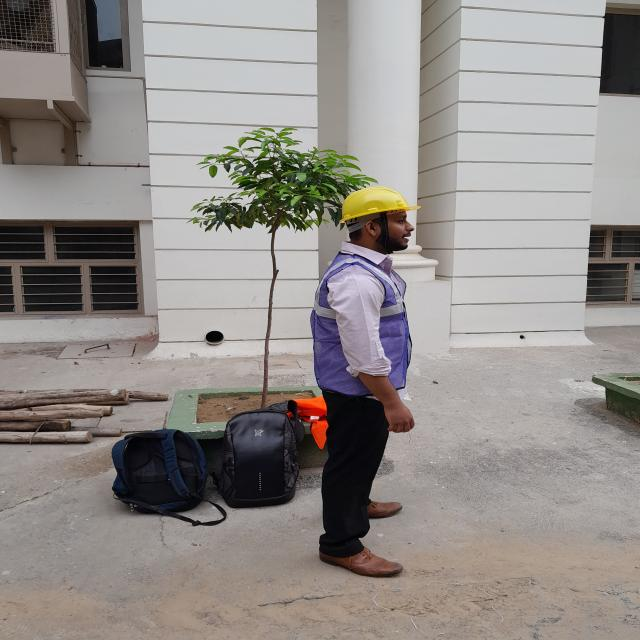safe: (310, 186, 421, 575)
